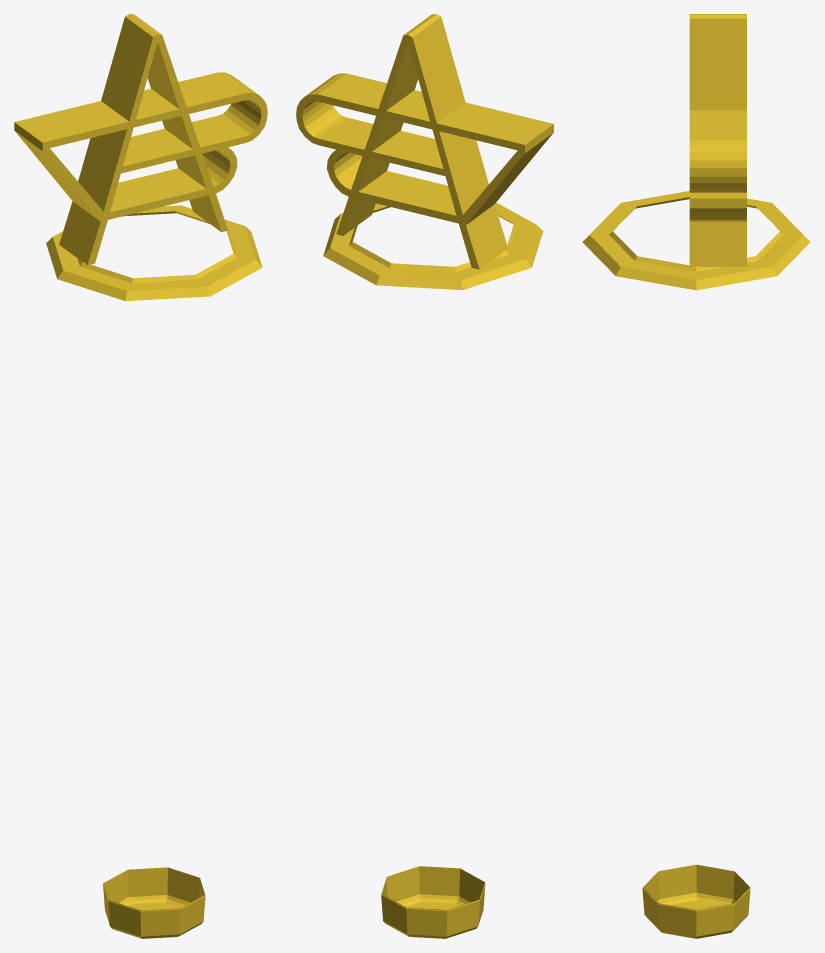
The model's file is BOA_04.glb.
3 views of the same model, side by side, from view 1: azimuth 30°, elevation 25°; view 2: azimuth 150°, elevation 25°; view 3: azimuth 270°, elevation 25° (orthographic).
Size of the model in its own units: 0.1376 by 0.519 by 0.1187.
